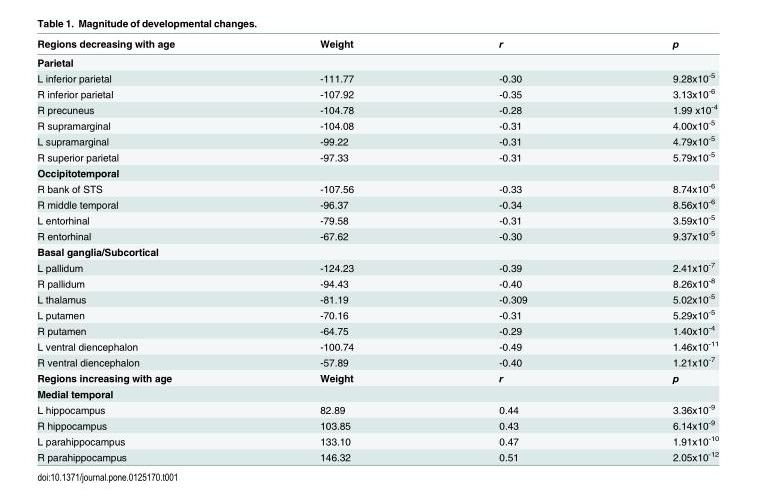table: (36, 36, 718, 462)
table column: (36, 36, 246, 462), (246, 36, 425, 462), (425, 36, 599, 462), (599, 36, 718, 462)
table column header: (36, 36, 718, 52)
table projected row header: (36, 52, 718, 69), (36, 164, 718, 179), (36, 243, 718, 258), (36, 385, 718, 400)
table row: (36, 52, 718, 69), (36, 36, 718, 52), (36, 69, 718, 85), (36, 100, 718, 116), (36, 116, 718, 132), (36, 132, 718, 148), (36, 148, 718, 164), (36, 179, 718, 195), (36, 195, 718, 211), (36, 211, 718, 227), (36, 227, 718, 243), (36, 258, 718, 274), (36, 274, 718, 290), (36, 290, 718, 306), (36, 321, 718, 337), (36, 337, 718, 353), (36, 353, 718, 369), (36, 369, 718, 385), (36, 400, 718, 416), (36, 416, 718, 432), (36, 432, 718, 448), (36, 85, 718, 100), (36, 164, 718, 179), (36, 243, 718, 258), (36, 306, 718, 321), (36, 385, 718, 400), (36, 448, 718, 462)
